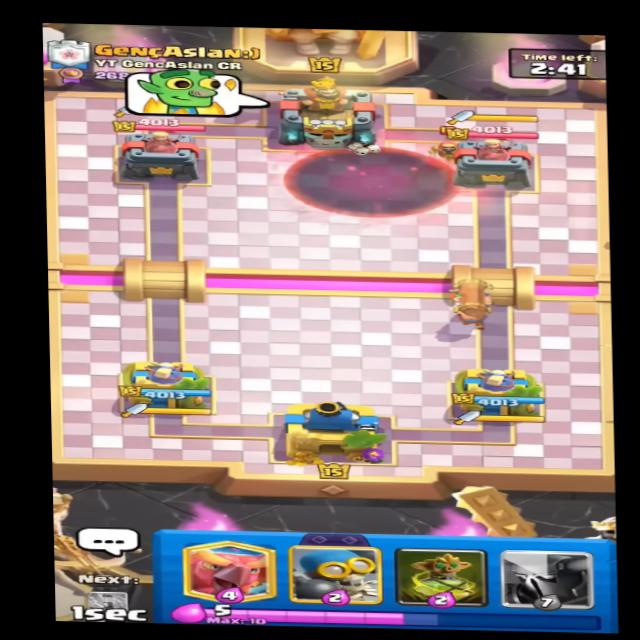wizard: (419, 123, 471, 163)
